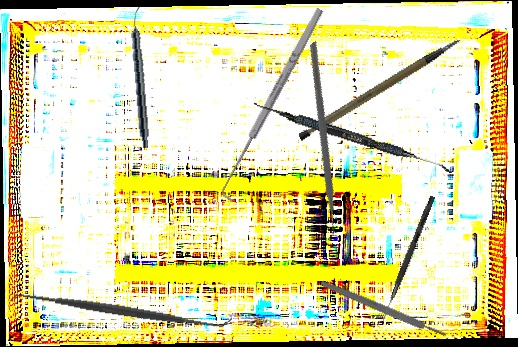Chopper: (219, 40, 417, 246)
Handpiece: (127, 6, 154, 149)
Hook Surgical: (215, 6, 332, 202), (380, 194, 436, 323)
Scalpel Handle: (288, 38, 474, 143), (319, 278, 448, 340)
Spatula Surgical: (250, 100, 456, 174), (10, 280, 233, 340)
